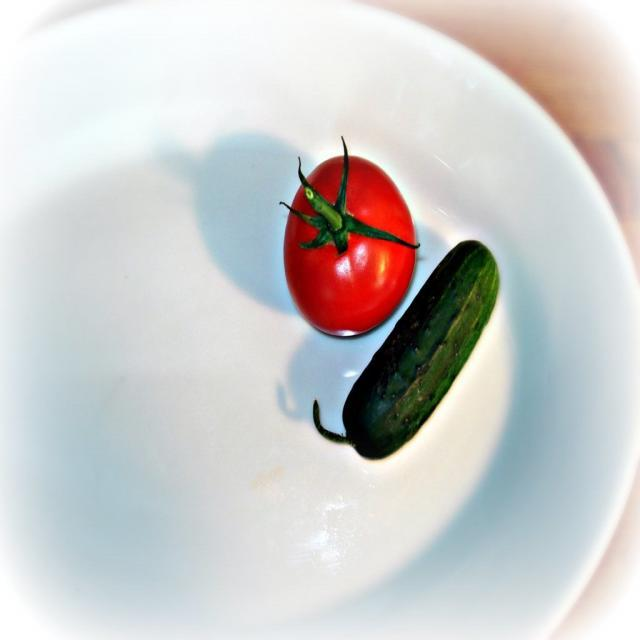Cucumber: (311, 239, 502, 463)
